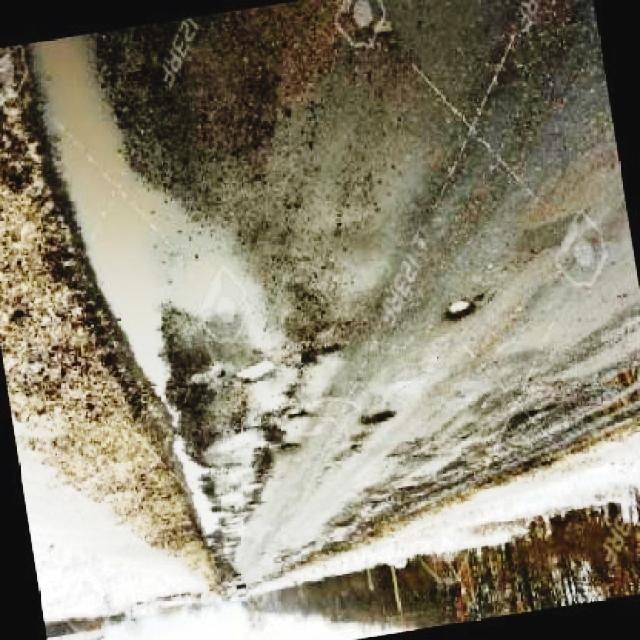pothole: (243, 351, 279, 389), (446, 297, 483, 321), (362, 408, 402, 429), (374, 17, 400, 38)
